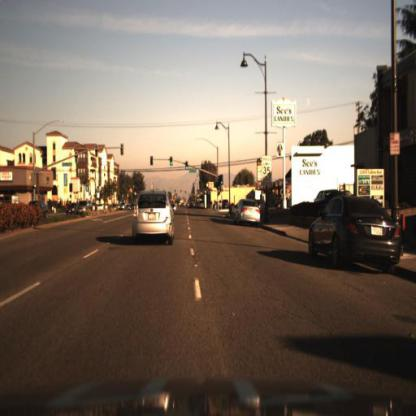car: (308, 195, 398, 270), (128, 185, 179, 249), (231, 193, 265, 233), (312, 188, 340, 205), (76, 199, 94, 219), (73, 200, 93, 216), (63, 201, 77, 220), (64, 200, 79, 217)
trafficLight-Green: (219, 173, 227, 188), (168, 152, 175, 169), (170, 161, 176, 173), (185, 162, 191, 174), (185, 160, 190, 173), (220, 179, 225, 189), (217, 186, 222, 194)
